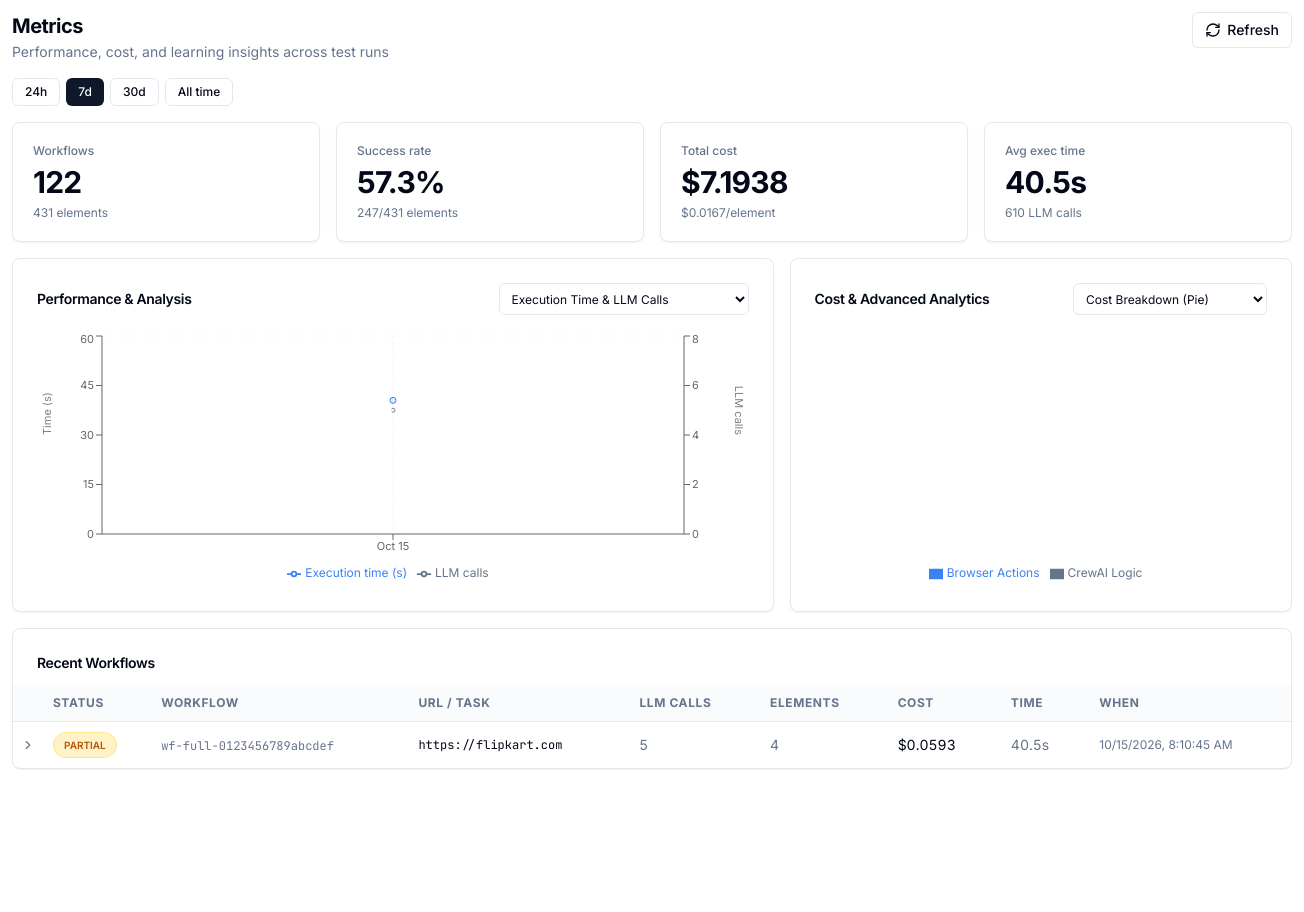
Test case: MetricsPage — the window filter › renders no cards for a window the summary has no bucket for
This screenshot has width=1304, height=912.
Click the button "30d" at (134, 92), box [110,78,159,106]
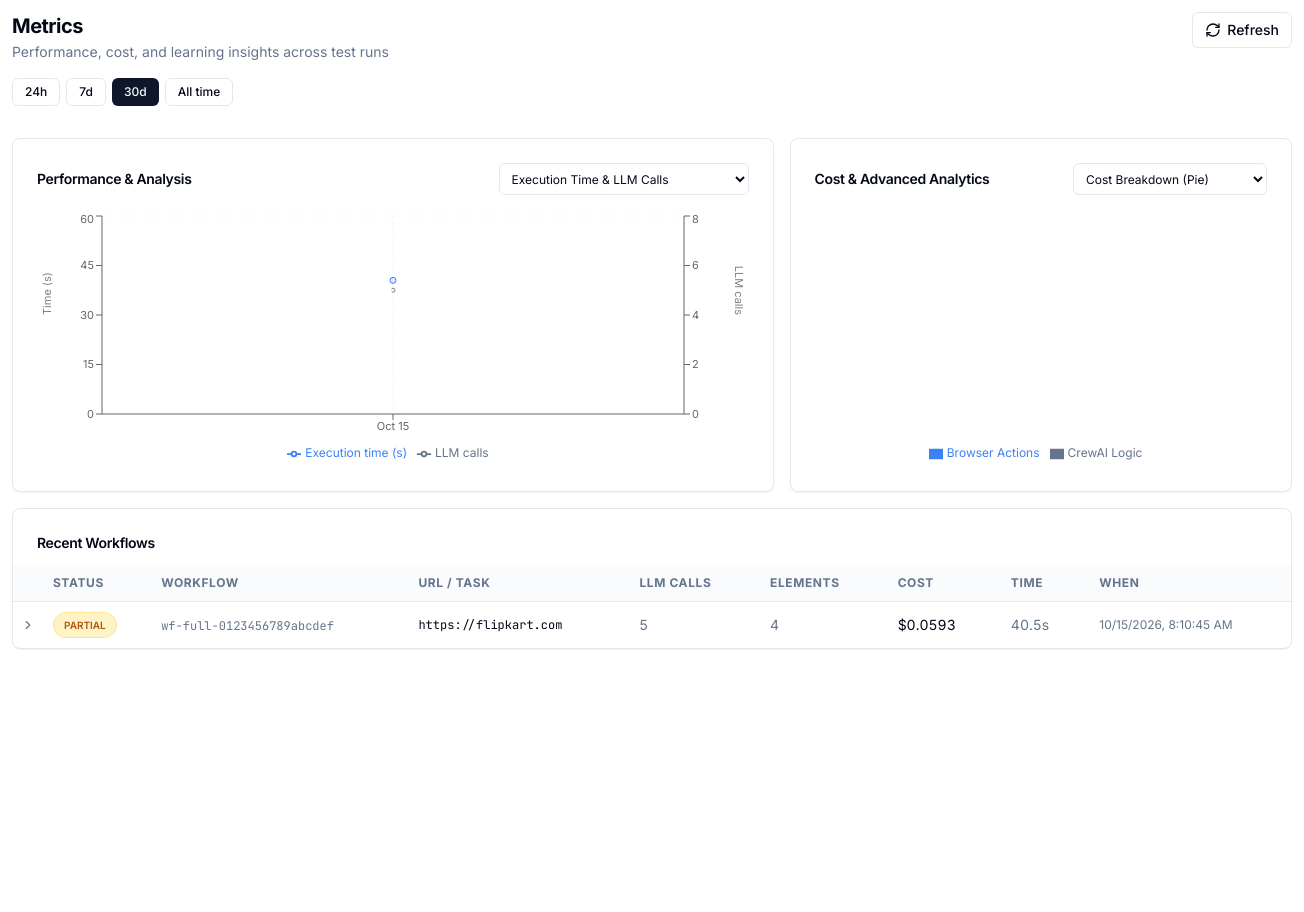
Expected: the text "122" is gone
